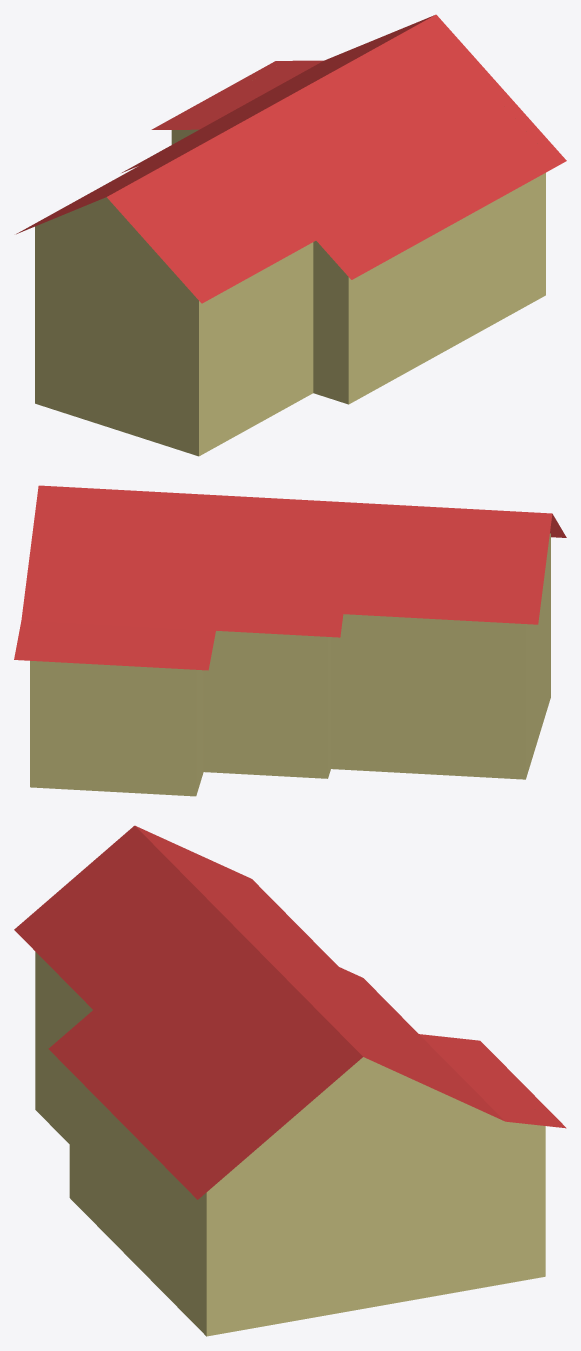
3 renders of one model, top to bottom at view 1: azimuth 30°, elevation 25°; view 2: azimuth 150°, elevation 25°; view 3: azimuth 270°, elevation 25°, orthographic. The views are drawn at different scales.
Bounding box in the file's own units: 30.47 × 25.3 × 13.1.
